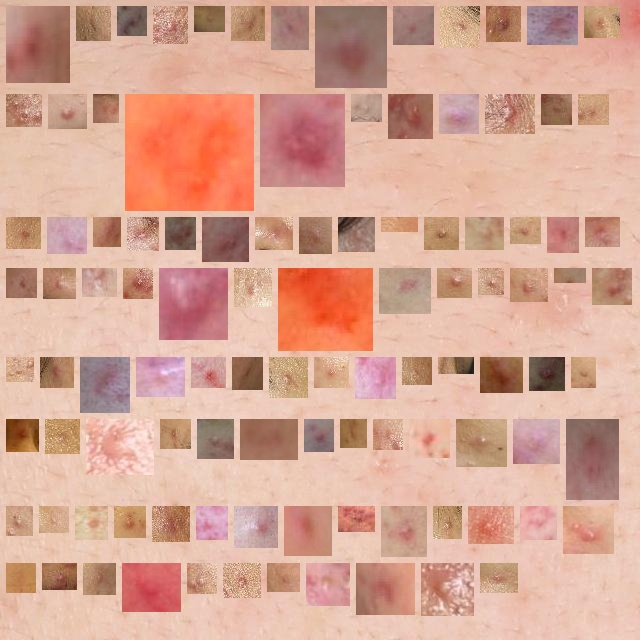papule: (133, 102, 246, 203), (268, 102, 337, 179), (286, 276, 365, 343), (323, 14, 379, 80), (167, 276, 220, 332), (14, 14, 62, 75), (574, 427, 611, 492), (94, 421, 146, 467), (364, 571, 407, 607), (130, 571, 173, 604), (429, 571, 466, 608), (88, 365, 122, 405), (464, 427, 499, 459), (571, 514, 606, 546), (292, 514, 324, 548), (387, 276, 423, 306), (248, 427, 290, 452), (389, 514, 419, 549), (210, 225, 241, 254), (521, 427, 552, 456), (396, 102, 425, 131), (493, 102, 527, 126), (535, 14, 570, 37), (144, 365, 177, 389), (314, 571, 342, 598), (242, 514, 270, 540), (476, 514, 506, 536), (363, 365, 388, 391), (448, 14, 472, 40), (279, 14, 301, 42), (447, 102, 471, 126), (401, 14, 426, 37), (277, 365, 300, 390), (417, 427, 442, 450), (488, 365, 515, 385), (242, 276, 264, 299), (55, 225, 79, 246), (600, 276, 624, 297), (205, 427, 226, 451), (160, 514, 182, 534), (56, 102, 79, 121), (161, 14, 180, 36), (231, 571, 253, 590), (346, 225, 367, 244), (518, 276, 540, 294), (473, 225, 496, 242), (494, 14, 513, 34), (528, 514, 549, 532), (263, 225, 285, 242), (84, 14, 103, 33), (53, 427, 72, 446), (537, 365, 557, 383), (307, 225, 324, 246), (239, 14, 257, 33), (14, 102, 34, 119), (432, 225, 451, 242), (592, 14, 612, 30), (555, 225, 571, 245), (488, 571, 510, 585), (83, 514, 100, 532), (14, 225, 33, 241), (14, 427, 31, 444), (135, 225, 151, 243), (204, 514, 220, 532), (199, 365, 218, 380), (322, 365, 341, 380), (91, 571, 108, 587), (48, 365, 66, 380), (593, 225, 612, 239), (445, 276, 464, 290), (122, 514, 138, 530), (173, 225, 188, 242), (51, 276, 68, 291), (240, 365, 255, 382), (90, 276, 109, 289), (312, 427, 326, 444), (549, 102, 564, 117), (586, 102, 601, 117), (441, 514, 454, 531), (275, 571, 292, 584), (14, 276, 29, 290), (131, 276, 145, 291), (168, 427, 183, 441), (381, 427, 395, 442), (346, 514, 367, 524), (195, 571, 209, 586), (50, 571, 69, 582), (125, 14, 139, 28), (14, 571, 28, 585), (359, 102, 374, 114), (101, 225, 113, 239), (410, 365, 424, 377), (518, 225, 533, 236), (14, 514, 25, 528), (47, 514, 61, 525), (202, 14, 217, 24), (348, 427, 359, 440), (579, 365, 588, 380), (101, 102, 111, 115), (486, 276, 496, 287), (14, 365, 26, 374)
